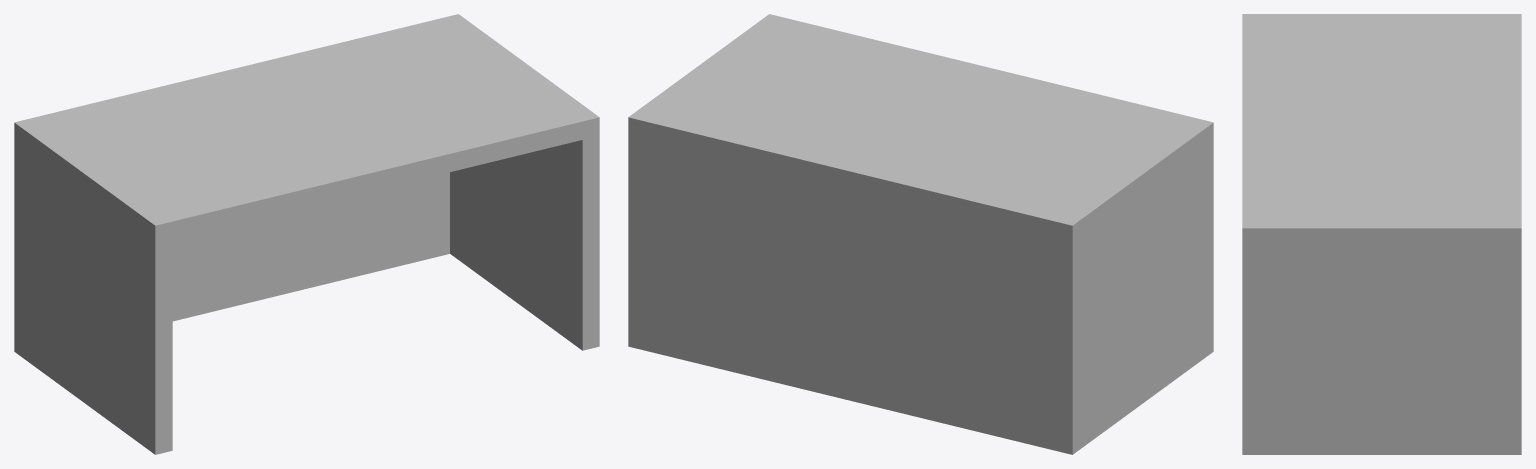
The model's file is Itr_Wardrobe2_Body1_06.FBX.
The picture shows the model from 3 angles, left to right: view 1: azimuth 30°, elevation 25°; view 2: azimuth 150°, elevation 25°; view 3: azimuth 270°, elevation 25°; orthographic projection.
Visible parts, largest first — view 1: Itr_Wardrobe2_Body1_06; view 2: Itr_Wardrobe2_Body1_06; view 3: Itr_Wardrobe2_Body1_06.
Part boxes in pixels (left/top/right/bottom): Itr_Wardrobe2_Body1_06: left=14, top=14, right=599, bottom=454; Itr_Wardrobe2_Body1_06: left=628, top=14, right=1213, bottom=454; Itr_Wardrobe2_Body1_06: left=1242, top=14, right=1521, bottom=454.
Size of the model in its own units: 39.14 by 19.29 by 21.54.
